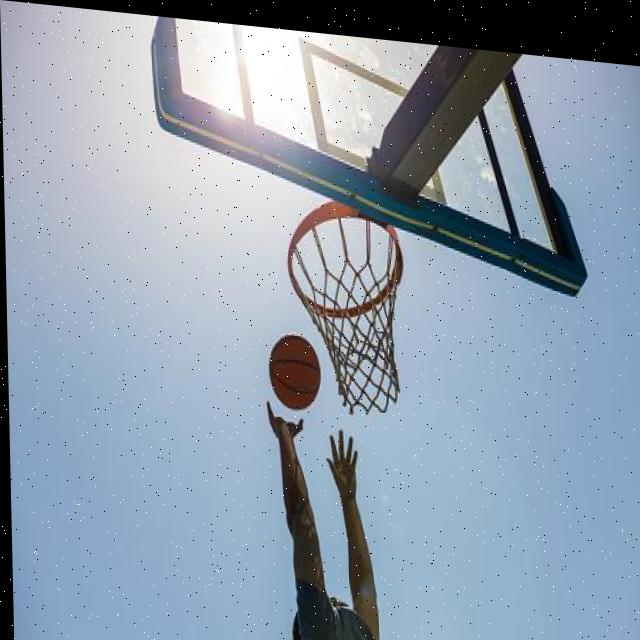basketball: (268, 333, 322, 415)
hoop: (286, 195, 407, 420)
